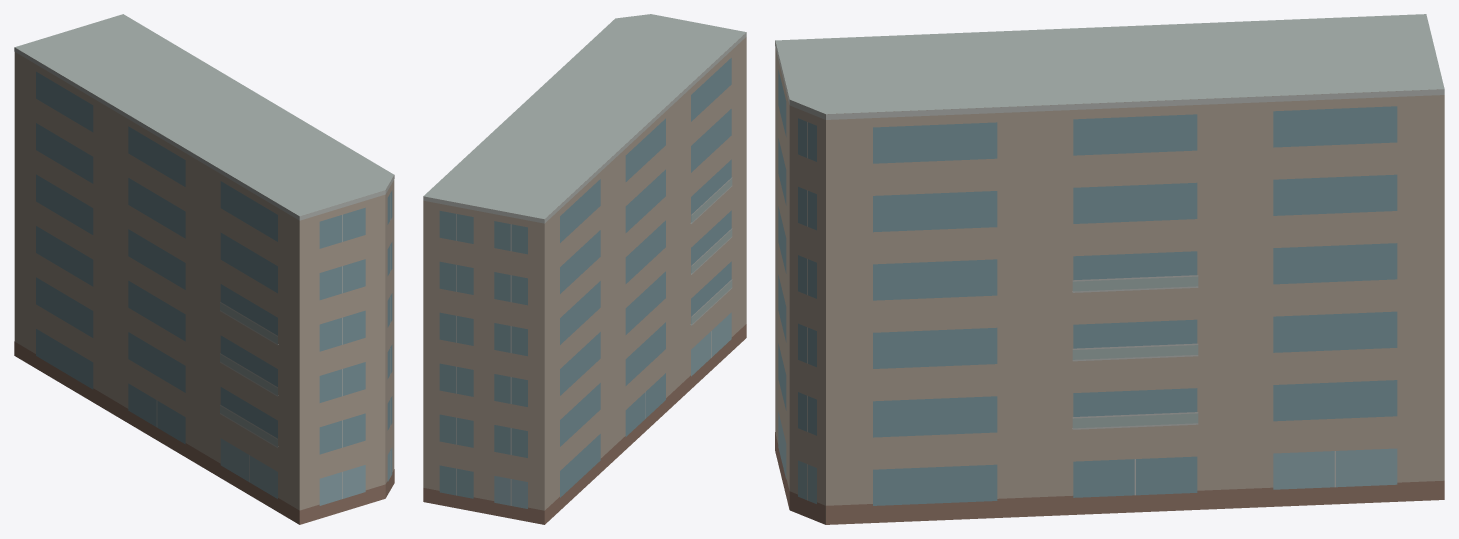
File: survey-upis-32629426.glb
3 views of the same model, side by side, from view 1: azimuth 30°, elevation 25°; view 2: azimuth 150°, elevation 25°; view 3: azimuth 270°, elevation 25° (orthographic). The views are drawn at different scales.
Visible parts, largest first — view 1: survey-upis-32629426.tmp; view 2: survey-upis-32629426.tmp; view 3: survey-upis-32629426.tmp.
Boxes of the visible parts, left/top/right/bottom form: survey-upis-32629426.tmp: left=14, top=14, right=394, bottom=524; survey-upis-32629426.tmp: left=423, top=14, right=746, bottom=524; survey-upis-32629426.tmp: left=775, top=14, right=1444, bottom=524.
Size of the model in its own units: 9.01 by 17.2 by 25.42.
